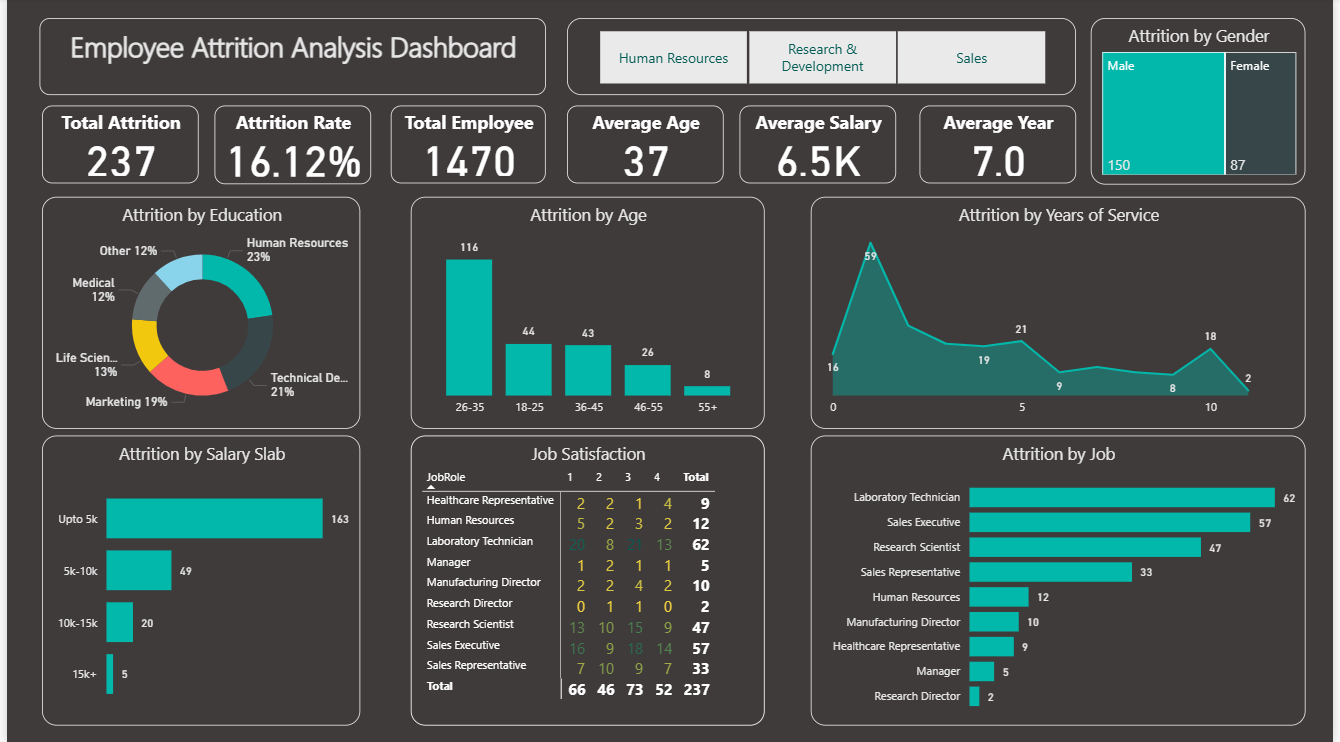

What the dashboard file says about the page in this screenshot:
{"tool":"powerbi","page":{"name":"Page 1","canvas":[1280,720],"ordinal":0},"visuals":[{"type":"card","title":"Total Employee","fields":{"Values":["CountNonNull(HR_Analytics.EmpID)"]},"box":[370.5,104.3,149.6,75.5],"z":0},{"type":"card","title":"Total Attrition","fields":{"Values":["Sum(HR_Analytics.Attrition_Count)"]},"box":[34.3,104.3,150.9,75.5],"z":1000},{"type":"card","title":"Attrition Rate","fields":{"Values":["HR_Analytics.Attrition_Rate"]},"box":[209.9,104.3,150.9,75.5],"z":2000},{"type":"card","title":"Average Age","fields":{"Values":["Avg(HR_Analytics.Age)"]},"box":[540.7,104.3,150.9,75.5],"z":3000},{"type":"card","title":"Average Salary","fields":{"Values":["Avg(HR_Analytics.MonthlyIncome)"]},"box":[706.7,104.3,150.9,75.5],"z":4000},{"type":"card","title":"Average Year","fields":{"Values":["Avg(HR_Analytics.YearsAtCompany)"]},"box":[881,104.3,150.9,75.5],"z":5000},{"type":"donutChart","title":"Attrition by Education","fields":{"Category":["HR_Analytics.EducationField"],"Y":["HR_Analytics.Attrition_Rate"]},"box":[34.3,192.1,307.4,223.7],"z":6000},{"type":"columnChart","title":"Attrition by Age","fields":{"Category":["HR_Analytics.AgeGroup"],"Y":["Sum(HR_Analytics.Attrition_Count)"]},"box":[389.7,192.1,341.7,223.7],"z":7000},{"type":"barChart","title":"Attrition by Salary Slab","fields":{"Category":["HR_Analytics.SalarySlab"],"Y":["Sum(HR_Analytics.Attrition_Count)"]},"box":[34.3,422.6,307.4,279.9],"z":8000},{"type":"barChart","title":"Attrition by Job","fields":{"Y":["Sum(HR_Analytics.Attrition_Count)"],"Category":["HR_Analytics.JobRole"]},"box":[775.3,422.6,477.5,279.9],"z":9000},{"type":"areaChart","title":"Attrition by Years of Service","fields":{"Y":["Sum(HR_Analytics.Attrition_Count)"],"Category":["HR_Analytics.YearsAtCompany"]},"box":[775.3,192.1,477.5,223.7],"z":10000},{"type":"pivotTable","title":"Job Satisfaction","fields":{"Values":["Sum(HR_Analytics.Attrition_Count)"],"Columns":["HR_Analytics.JobSatisfaction"],"Rows":["HR_Analytics.JobRole"]},"box":[389.7,422.6,341.7,279.9],"z":11000},{"type":"treemap","title":"Attrition by Gender","fields":{"Values":["Sum(HR_Analytics.Attrition_Count)"],"Group":["HR_Analytics.Gender"]},"box":[1045.6,19.2,207.2,160.5],"z":12000},{"type":"slicer","fields":{"Values":["HR_Analytics.Department"]},"box":[540.7,19.2,491.3,74.1],"z":13000},{"type":"textbox","box":[31.6,19.2,488.5,74.1],"z":14000}]}

Visuals, with their boxes in screenshot pixels (x1, y1, x2, y2), scaled from the page's 1280x720 canvas onto the 1340x742 screenshot:
"Total Employee" card: 388:107:544:185
"Total Attrition" card: 36:107:194:185
"Attrition Rate" card: 220:107:378:185
"Average Age" card: 566:107:724:185
"Average Salary" card: 740:107:898:185
"Average Year" card: 922:107:1080:185
"Attrition by Education" donutChart: 36:198:358:429
"Attrition by Age" columnChart: 408:198:766:429
"Attrition by Salary Slab" barChart: 36:436:358:724
"Attrition by Job" barChart: 812:436:1312:724
"Attrition by Years of Service" areaChart: 812:198:1312:429
"Job Satisfaction" pivotTable: 408:436:766:724
"Attrition by Gender" treemap: 1095:20:1312:185
slicer - HR_Analytics.Department: 566:20:1080:96
textbox: 33:20:544:96
